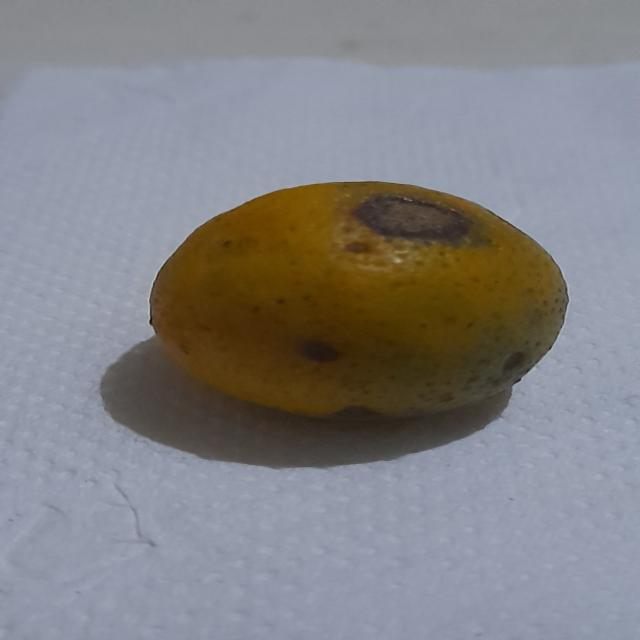black spot: (152, 179, 576, 426)
